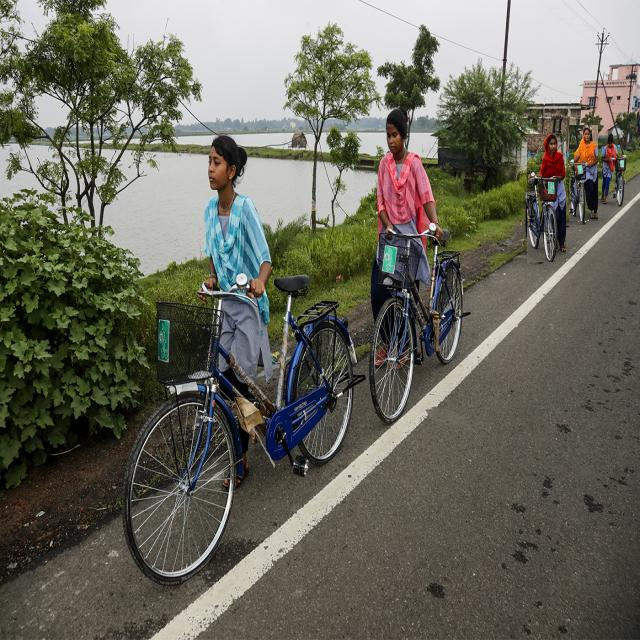bicycle: (158, 137, 361, 474), (370, 107, 462, 424), (124, 390, 250, 581), (527, 135, 565, 262), (569, 126, 598, 221), (601, 133, 626, 204)
